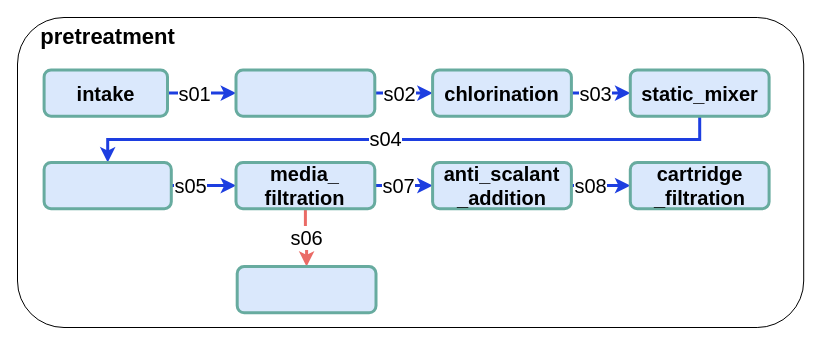
Some shapes in this 822 by 345 pixel diagram are drawn without their labels. Here are the shapes that lost their labels. From the top down, the box of each, then its label:
(234, 68, 376, 117): ferric_chloride _addition
(42, 160, 172, 210): storage_tank_1
(235, 265, 377, 314): backwash _handling
